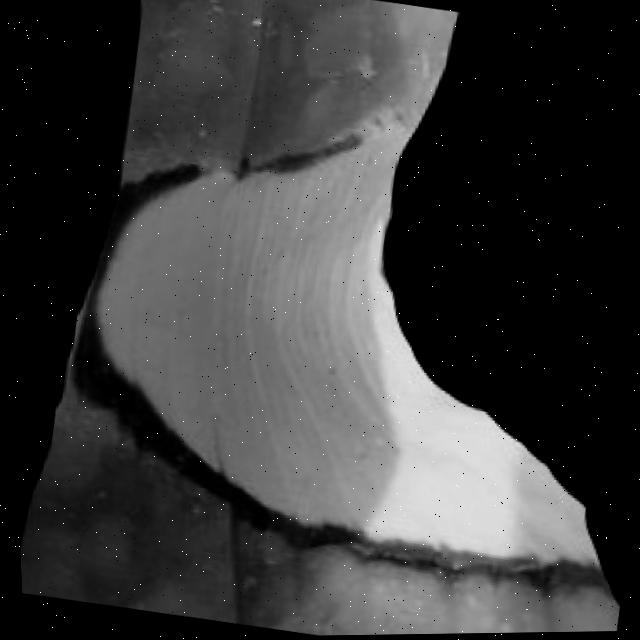mite: (331, 5, 640, 624), (107, 0, 470, 231), (142, 0, 378, 143), (346, 50, 381, 92), (189, 126, 208, 146)
sunburn: (42, 62, 640, 607)
